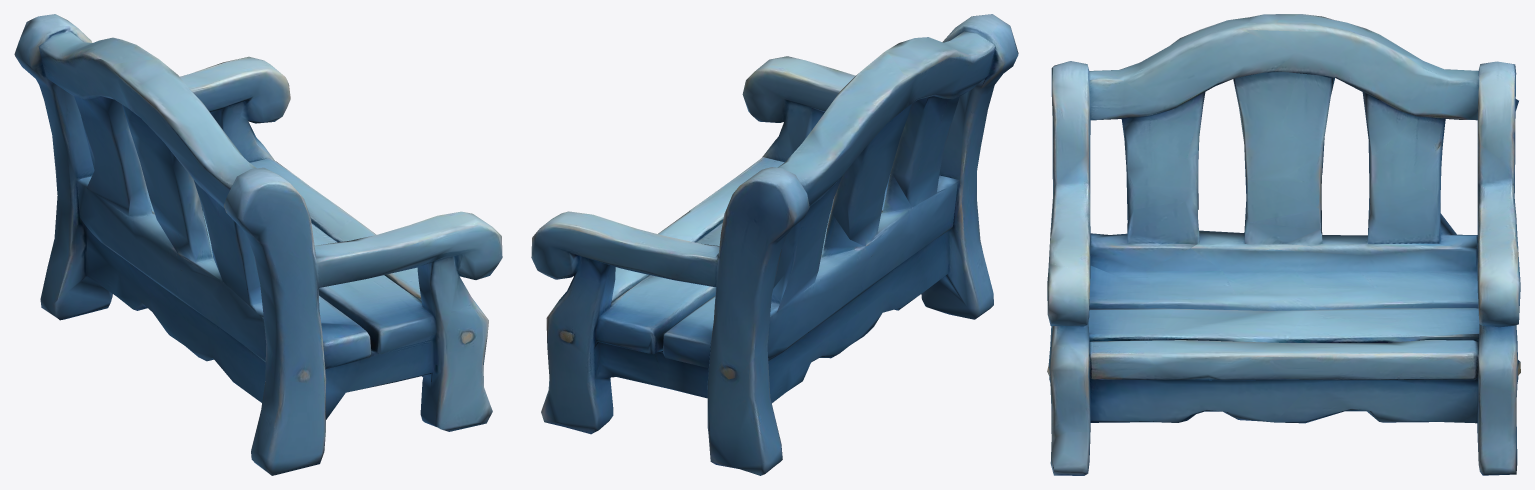
The model's file is meuble-banc.glb.
The picture shows the model from 3 angles, left to right: view 1: azimuth 30°, elevation 25°; view 2: azimuth 150°, elevation 25°; view 3: azimuth 270°, elevation 25°; orthographic projection.
Parts seen in each view (by area): view 1: tripo_node_602776f7-d30e-4df8-9abf-f96638145933; view 2: tripo_node_602776f7-d30e-4df8-9abf-f96638145933; view 3: tripo_node_602776f7-d30e-4df8-9abf-f96638145933.
Boxes of the visible parts, bbox=[...] form: tripo_node_602776f7-d30e-4df8-9abf-f96638145933: bbox=[14, 14, 502, 475]; tripo_node_602776f7-d30e-4df8-9abf-f96638145933: bbox=[531, 14, 1018, 475]; tripo_node_602776f7-d30e-4df8-9abf-f96638145933: bbox=[1047, 14, 1520, 475].
Size of the model in its own units: 0.6714 by 0.8023 by 1.
Materials: 1 (1 with a texture image).
